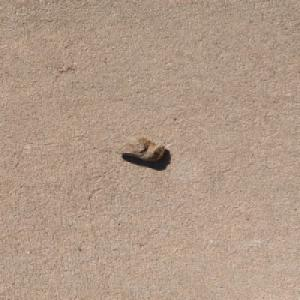Rock: (114, 136, 165, 161)
